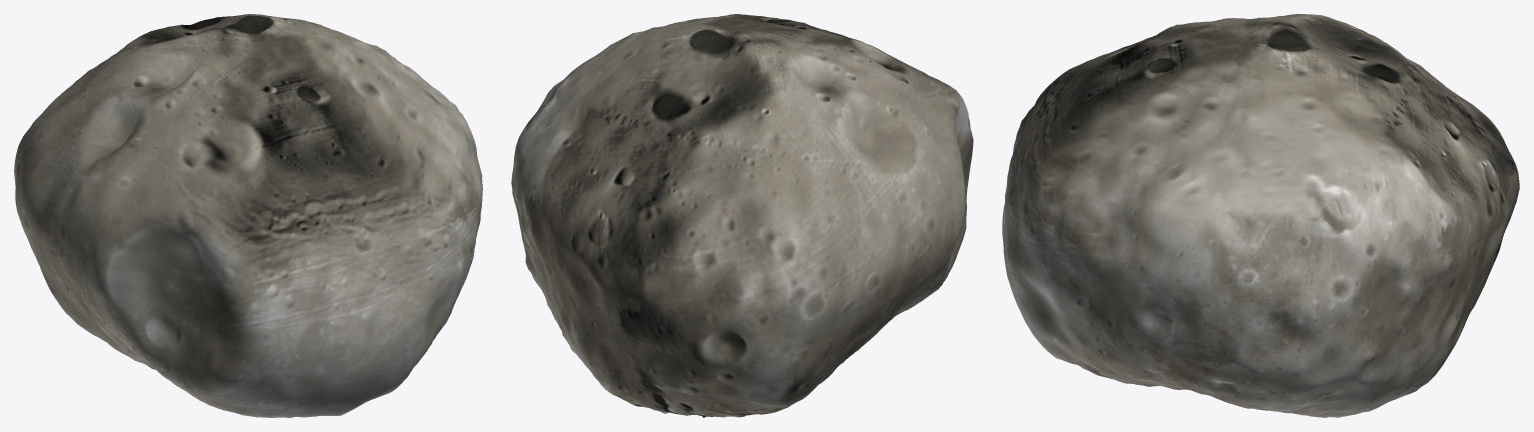
File: phobos_compressed.glb
3 views of the same model, side by side, from view 1: azimuth 30°, elevation 25°; view 2: azimuth 150°, elevation 25°; view 3: azimuth 270°, elevation 25° (orthographic). The views are drawn at different scales.
Visible parts, largest first — view 1: phobos; view 2: phobos; view 3: phobos.
Part boxes in pixels (left/top/right/bottom): phobos: left=14, top=14, right=482, bottom=417; phobos: left=511, top=14, right=973, bottom=417; phobos: left=1002, top=14, right=1519, bottom=417.
Size of the model in its own units: 24.37 by 20.51 by 27.04.
Materials: 1 (1 with a texture image).
